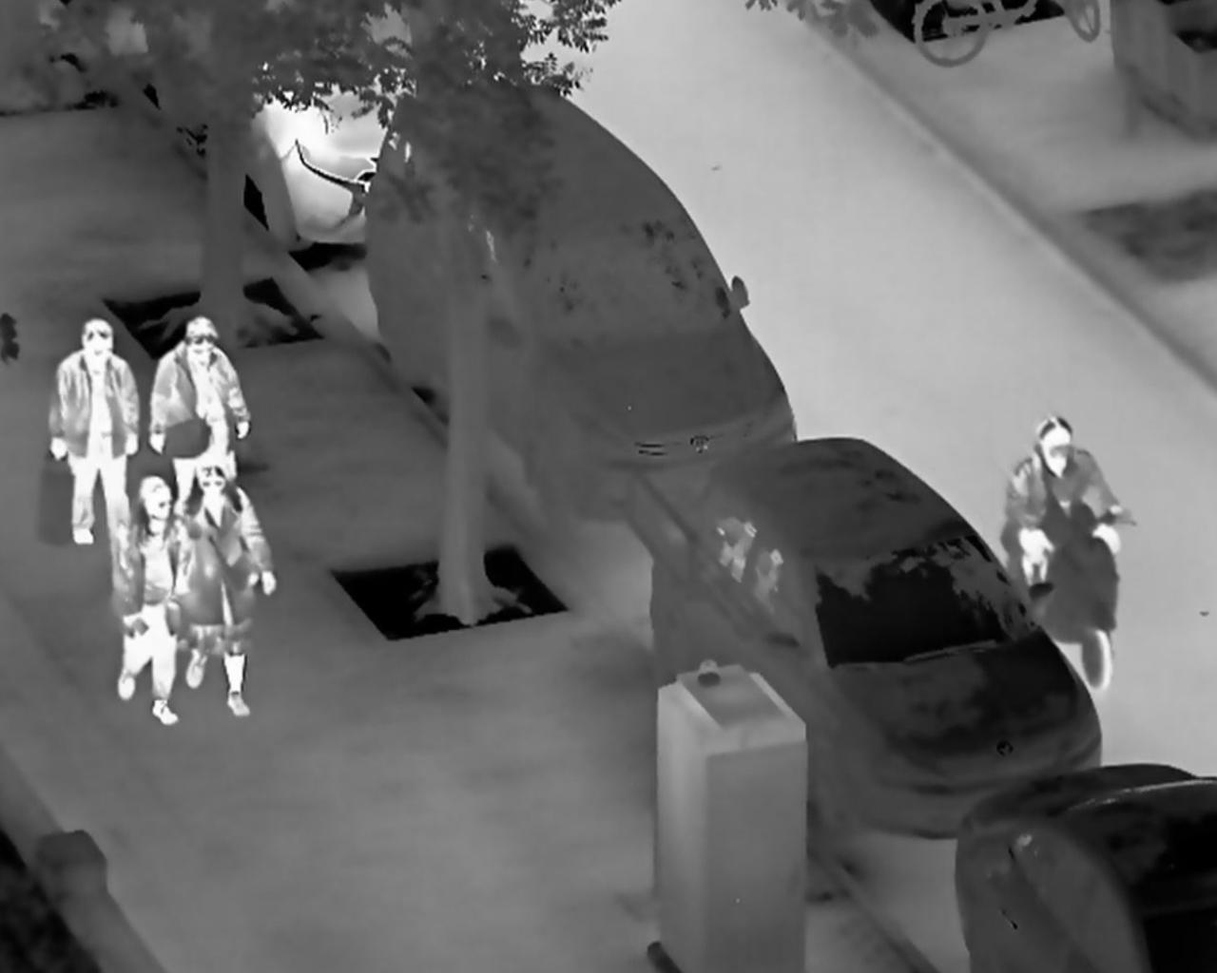person: (176, 458, 277, 718), (1006, 415, 1126, 599), (149, 315, 248, 520), (54, 315, 137, 547), (110, 473, 184, 724)
